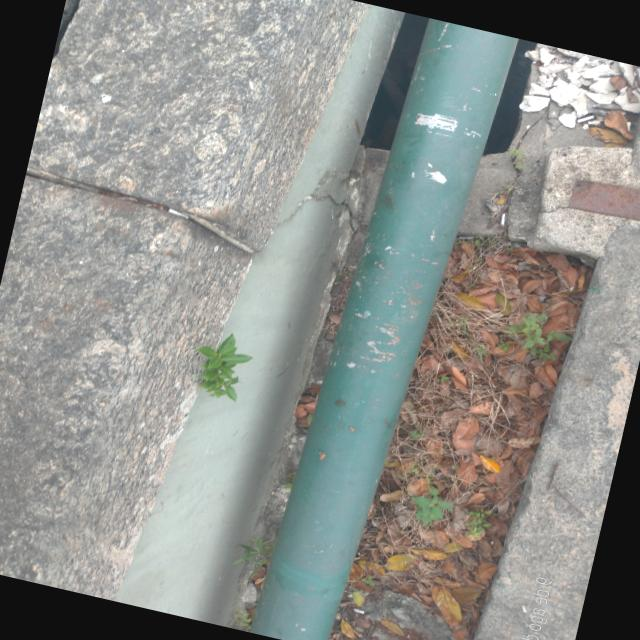gas: (247, 8, 520, 640)
